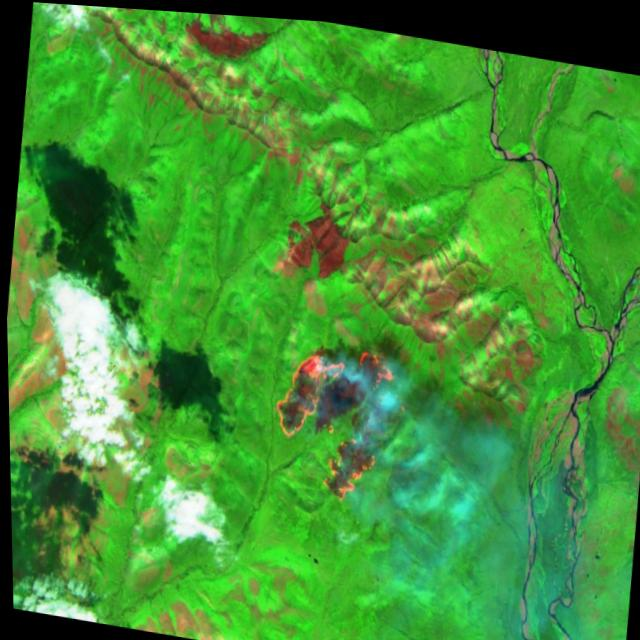fire: (260, 325, 405, 504)
